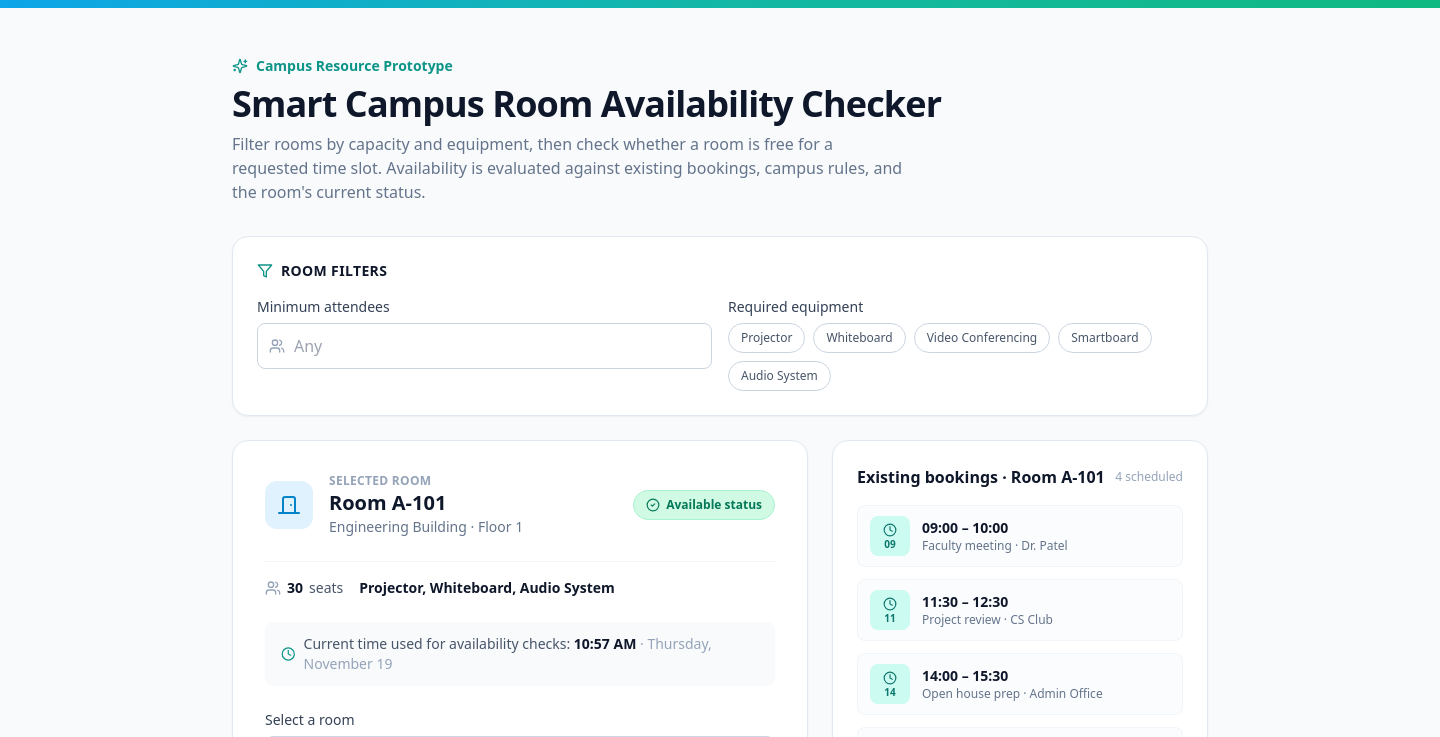
Test: App integration — filtering and F5 auto-selection › shows the blocked room's status badge when it would be selected but is excluded from filters
The width and height of the screenshot is (1440, 737).
Step 1. Type "1" into the number field labelled "Minimum attendees" → [484, 346], box [257,323,712,369]
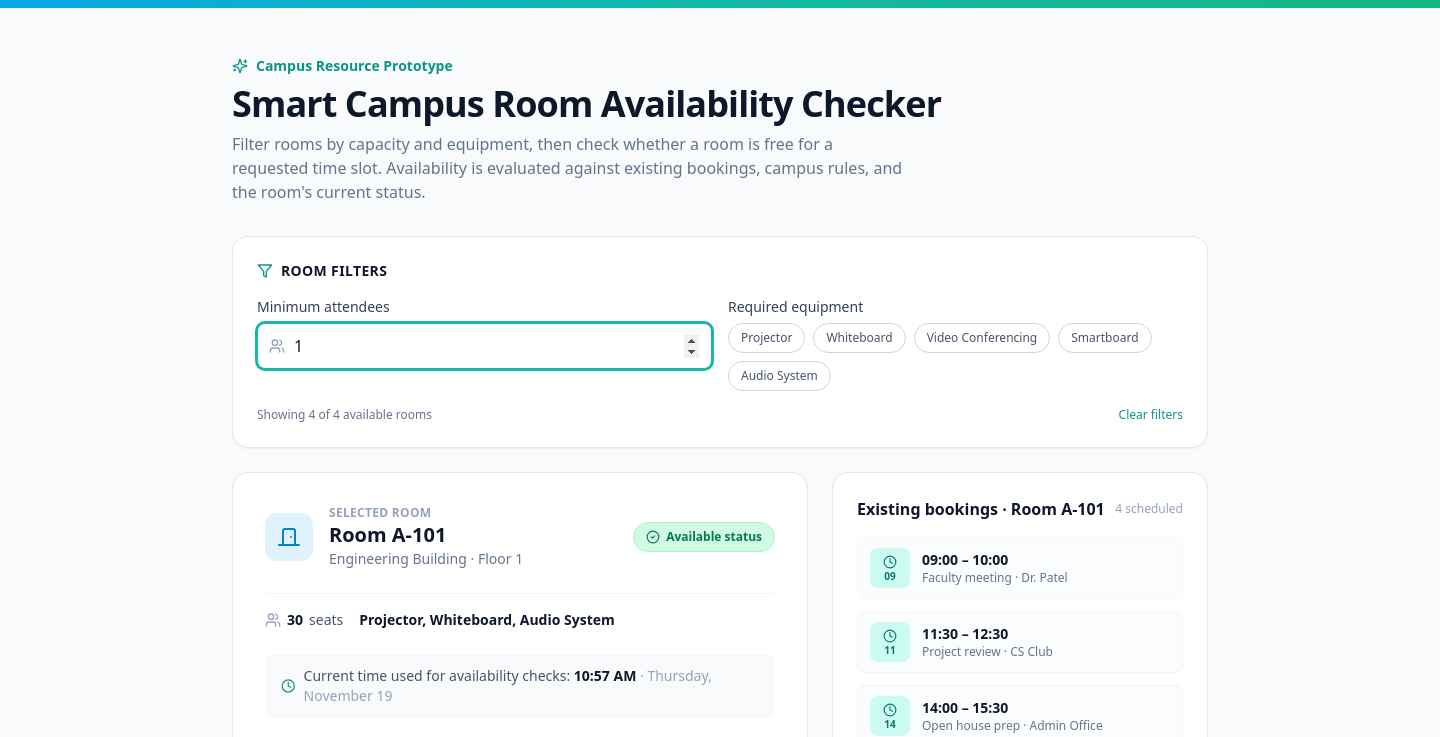
Expected: the text "Showing 4 of 4 available rooms" is shown, [257,407,432,423]
